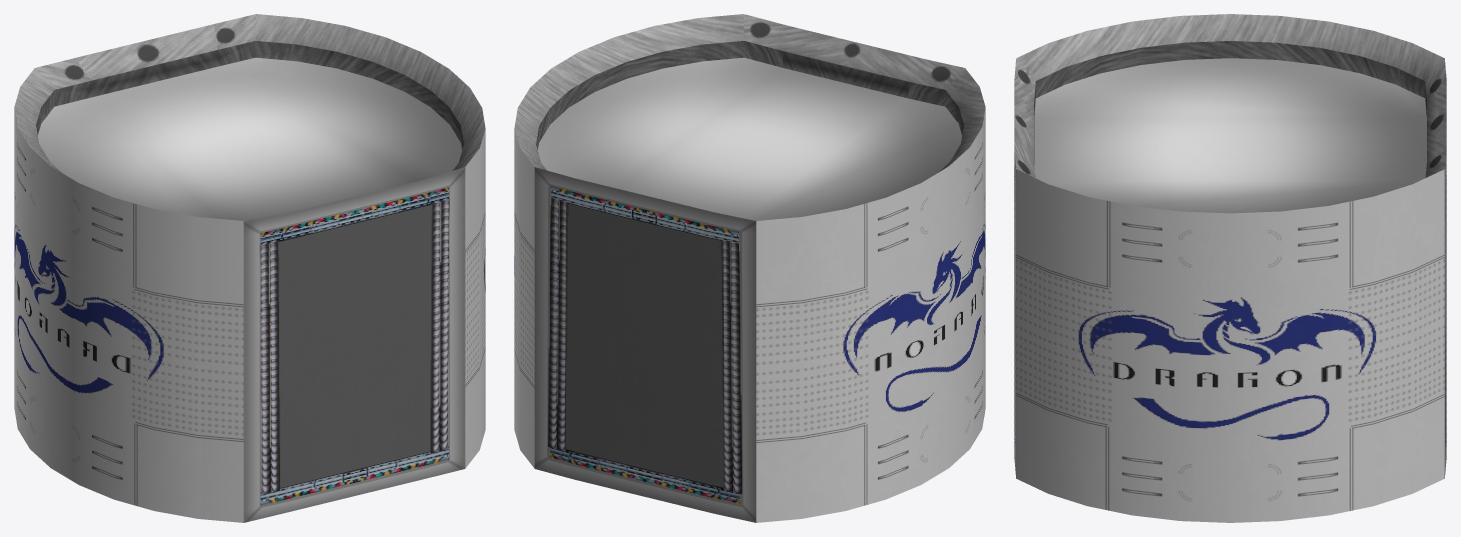
The model's file is Trunk2.fbx.
The picture shows the model from 3 angles, left to right: view 1: azimuth 30°, elevation 25°; view 2: azimuth 150°, elevation 25°; view 3: azimuth 270°, elevation 25°; orthographic projection. The views are drawn at different scales.
Visible parts, largest first — view 1: Cylinder; view 2: Cylinder; view 3: Cylinder.
Boxes of the visible parts, x1,y1,x2,y2 form: Cylinder: [14, 14, 485, 522]; Cylinder: [514, 14, 985, 522]; Cylinder: [1014, 14, 1446, 522].
Size of what is drawn, in the model's own units: 229 by 166 by 210.
Materials: 1 (1 with a texture image).
